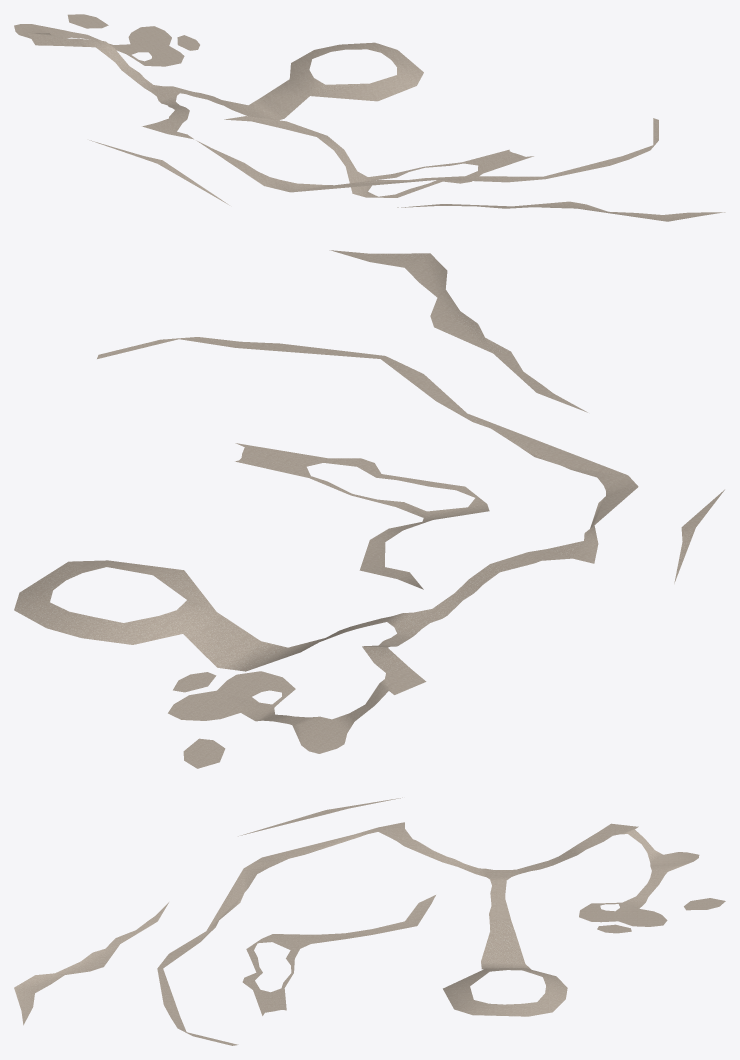
The model's file is kd_stage_136282_5_4_bounded.glb.
3 renders of one model, top to bottom at view 1: azimuth 30°, elevation 25°; view 2: azimuth 150°, elevation 25°; view 3: azimuth 270°, elevation 25°, orthographic. The views are drawn at different scales.
Visible parts, largest first — view 1: kd_stage_136282_5_4_bounded; view 2: kd_stage_136282_5_4_bounded; view 3: kd_stage_136282_5_4_bounded.
Boxes of the visible parts, box(x1,y1,x2,y2) form: kd_stage_136282_5_4_bounded: box(14, 14, 725, 221); kd_stage_136282_5_4_bounded: box(14, 250, 724, 768); kd_stage_136282_5_4_bounded: box(14, 797, 725, 1045).
Size of the model in its own units: 73.13 by 9.8 by 99.83.
Materials: 1 (1 with a texture image).
